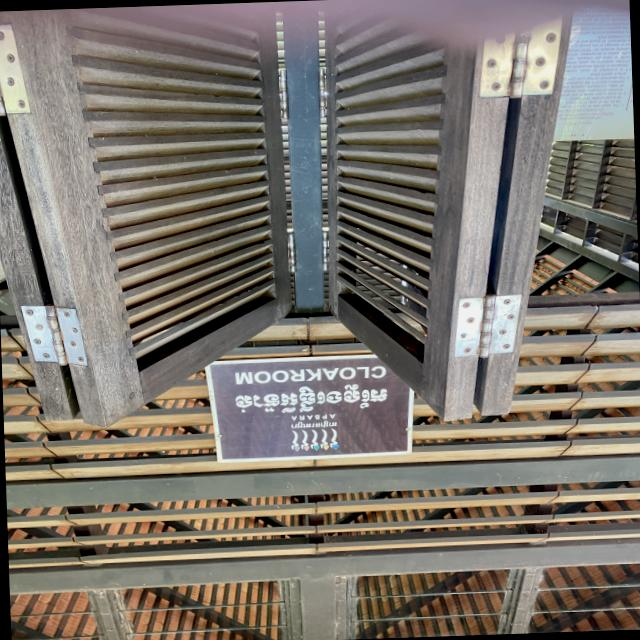Yolov11_80vkh: (232, 380, 391, 416), (289, 419, 339, 430)
